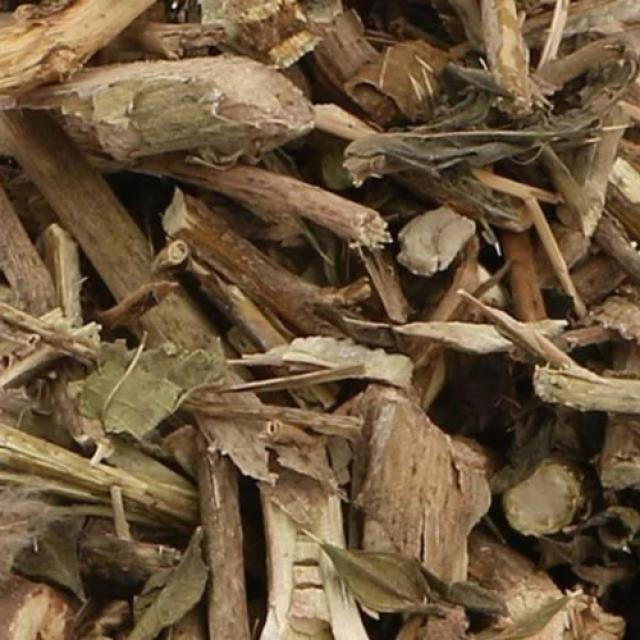Malabar Nut: (41, 50, 595, 606)
